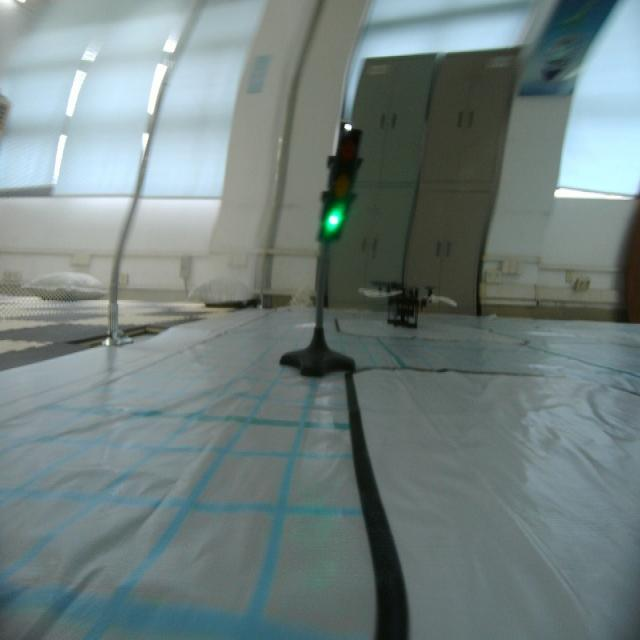green: (315, 123, 361, 248)
